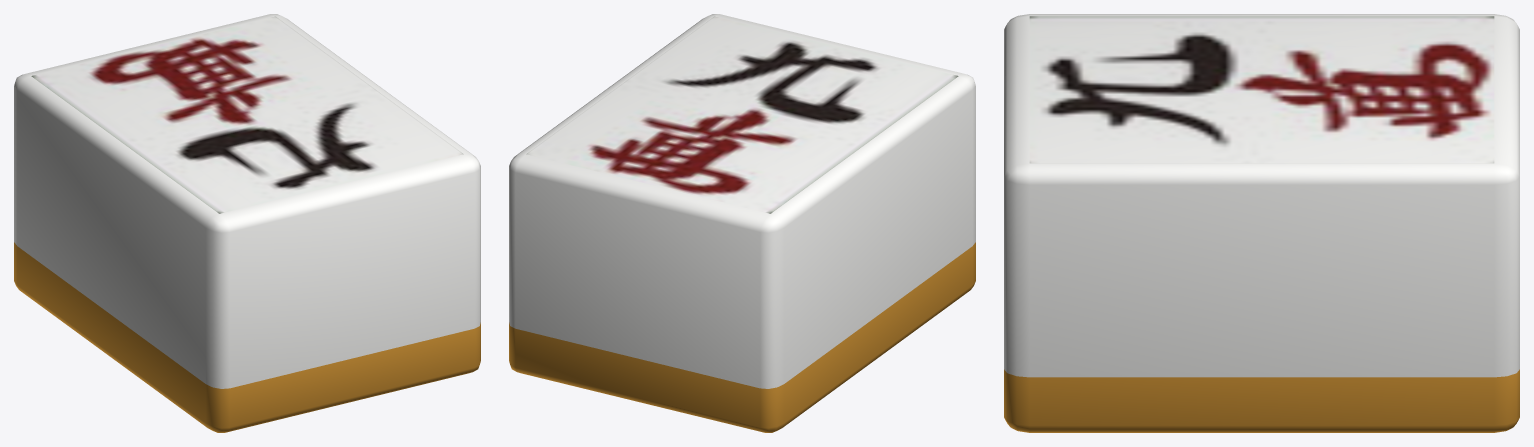
3 views of the same model, side by side, from view 1: azimuth 30°, elevation 25°; view 2: azimuth 150°, elevation 25°; view 3: azimuth 270°, elevation 25° (orthographic). The views are drawn at different scales.
Parts seen in each view (by area): view 1: hai; view 2: hai; view 3: hai.
Boxes of the visible parts, x1=… form: hai: x1=14, y1=14, x2=480, y2=432; hai: x1=509, y1=14, x2=975, y2=432; hai: x1=1004, y1=14, x2=1519, y2=432.
Size of the model in its own units: 420 by 320 by 560.
Materials: 3 (1 with a texture image).
